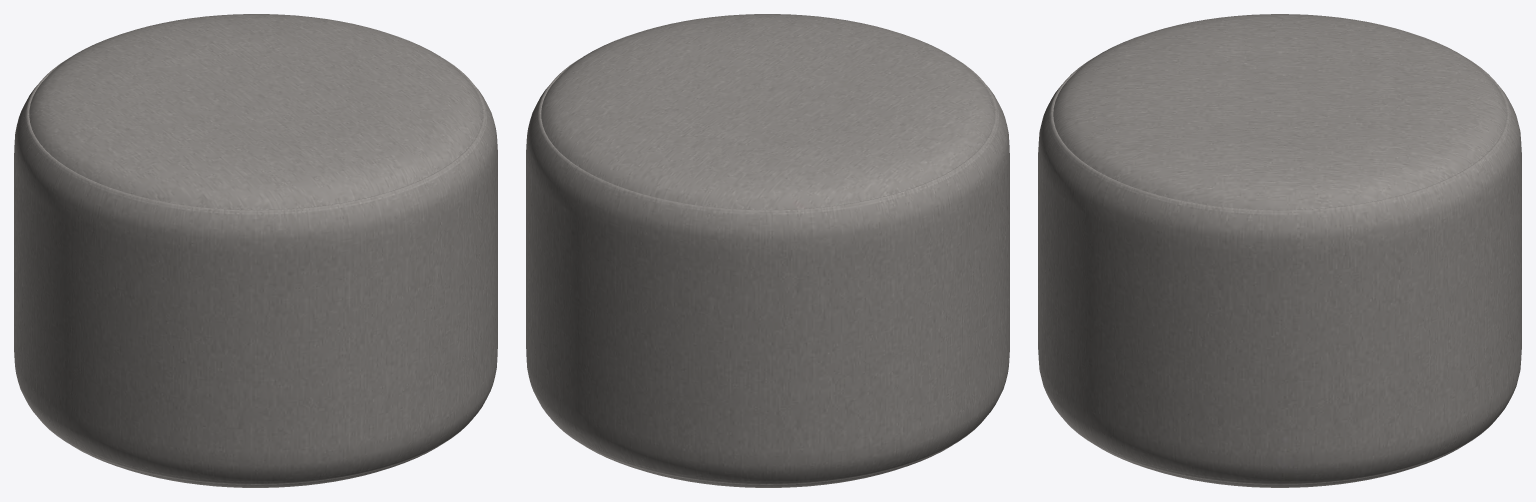
Rendered from B07QBMQPWG.glb.
The picture shows the model from 3 angles, left to right: view 1: azimuth 30°, elevation 25°; view 2: azimuth 150°, elevation 25°; view 3: azimuth 270°, elevation 25°; orthographic projection.
Visible parts, largest first — view 1: RootNode; view 2: RootNode; view 3: RootNode.
Part boxes in pixels (<box>): RootNode: <box>14,14,497,487</box>; RootNode: <box>526,14,1009,487</box>; RootNode: <box>1038,14,1521,487</box>.
Bounding box in the file's own units: 0.6077 × 0.4325 × 0.6077.
Materials: 1 (1 with a texture image).
